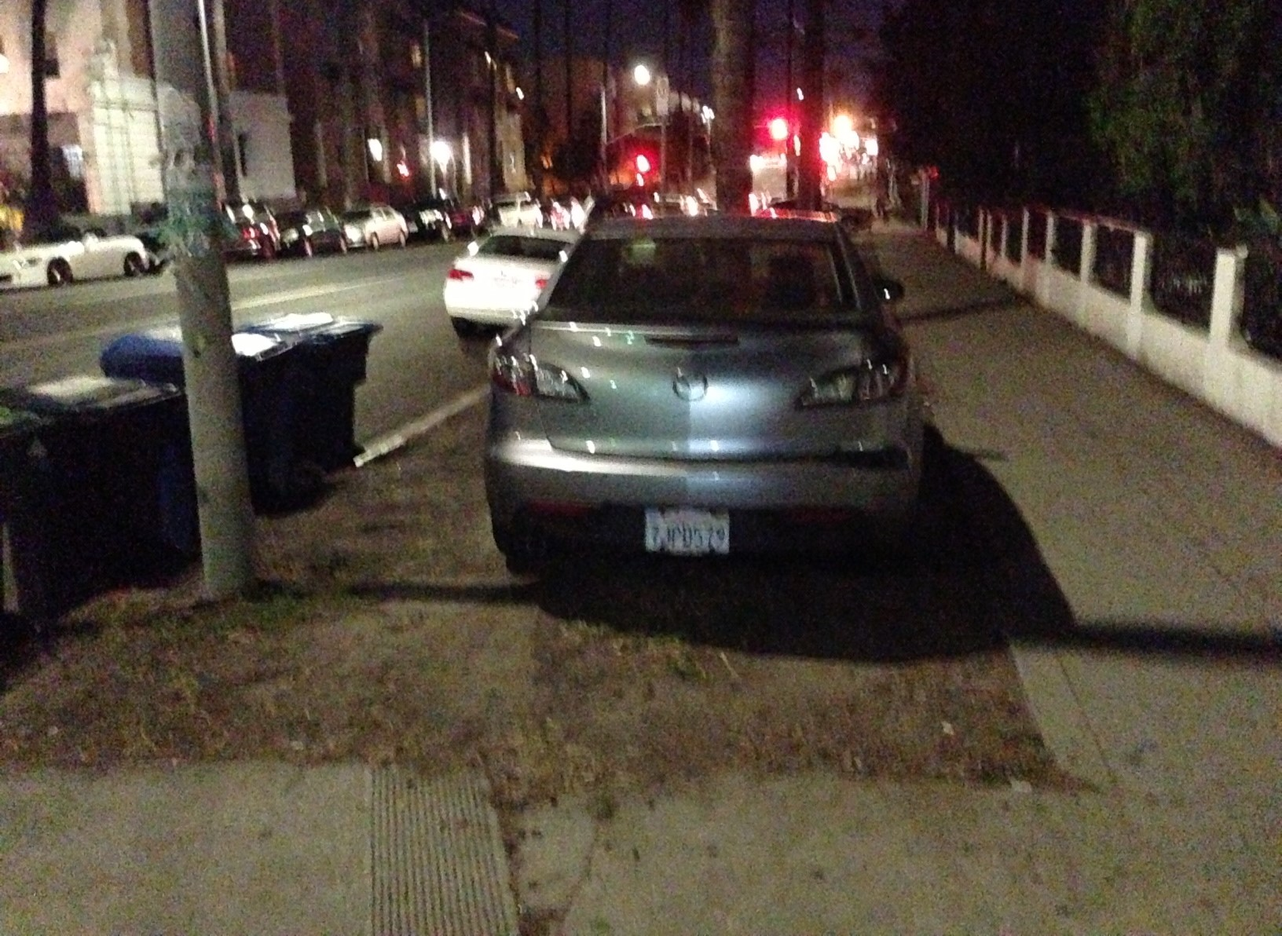Car: (486, 213, 929, 576), (9, 217, 163, 293)
